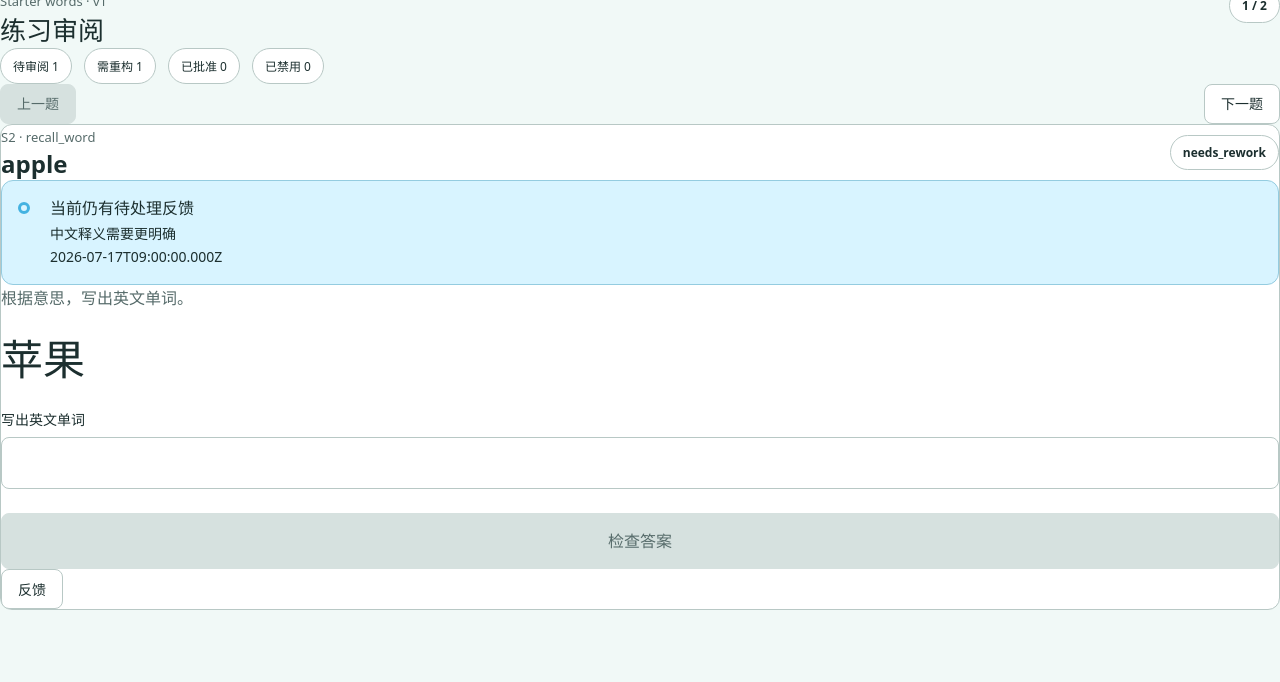
ExerciseReviewPage › directly corrects through the review decision and requires a fresh simulation
The image size is (1280, 682).
Check: the message "当前仍有待处理反馈 中文释义需要更明确 2026-07-17T09:00:00.000Z" is shown, box [1,180,1279,285]
Click the button "反馈" at (32, 589), box [1,569,63,609]
(page scrolled)
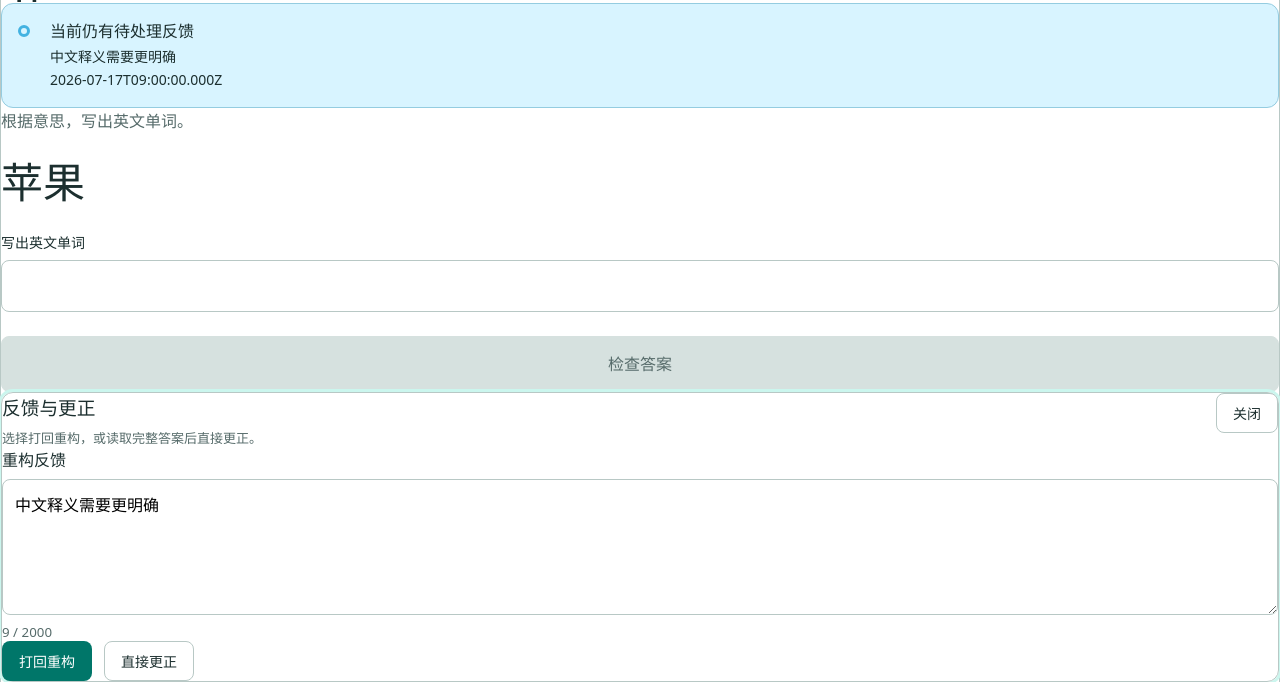
Click the button "直接更正" at (149, 661), box [104,641,194,681]
(page scrolled)
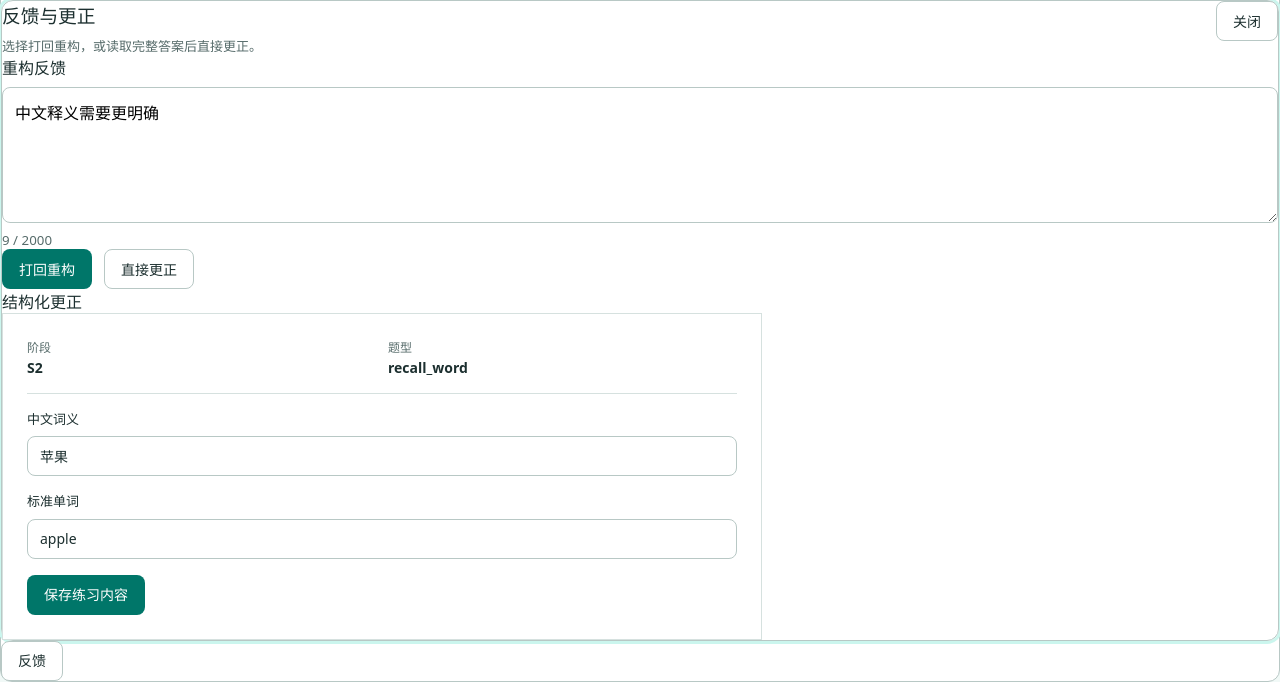
Replace the text in the field named "meaning" with "苹果（水果）" at (382, 456), box [27,436,737,476]
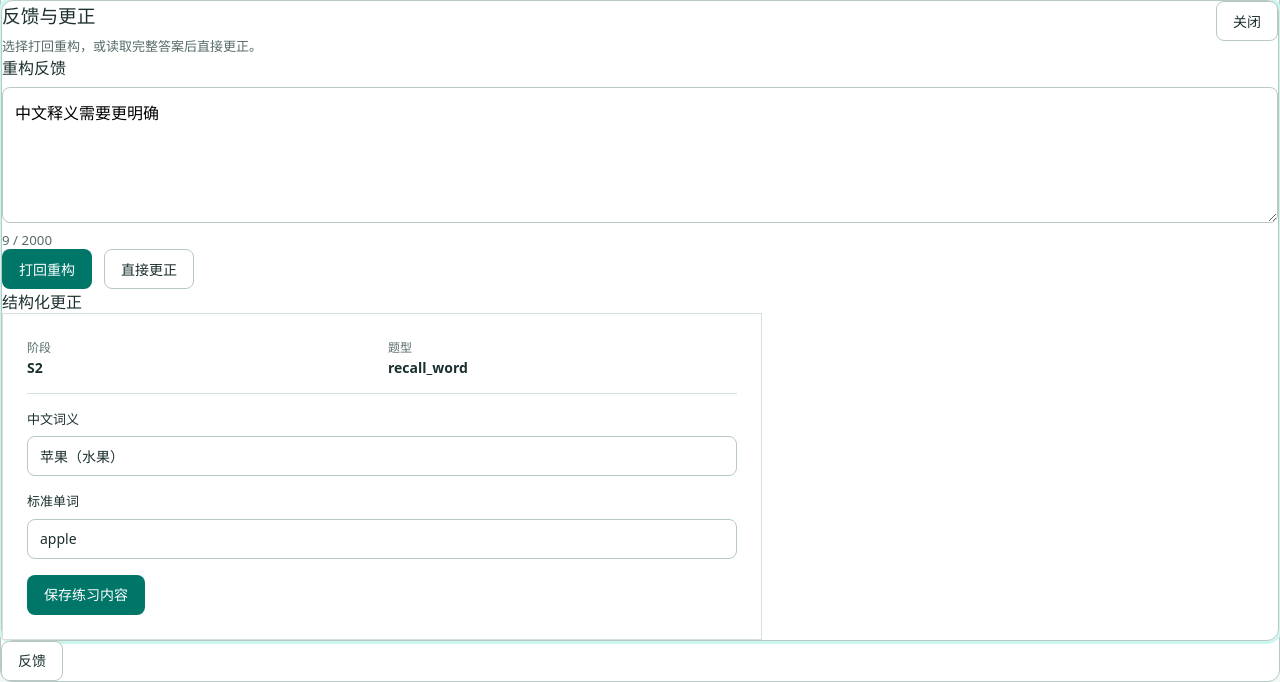
Submit the form "阶段 S2 题型 recall_word 中文词义 标准单词 保存练习内容", box [2,313,762,640]
(page scrolled)
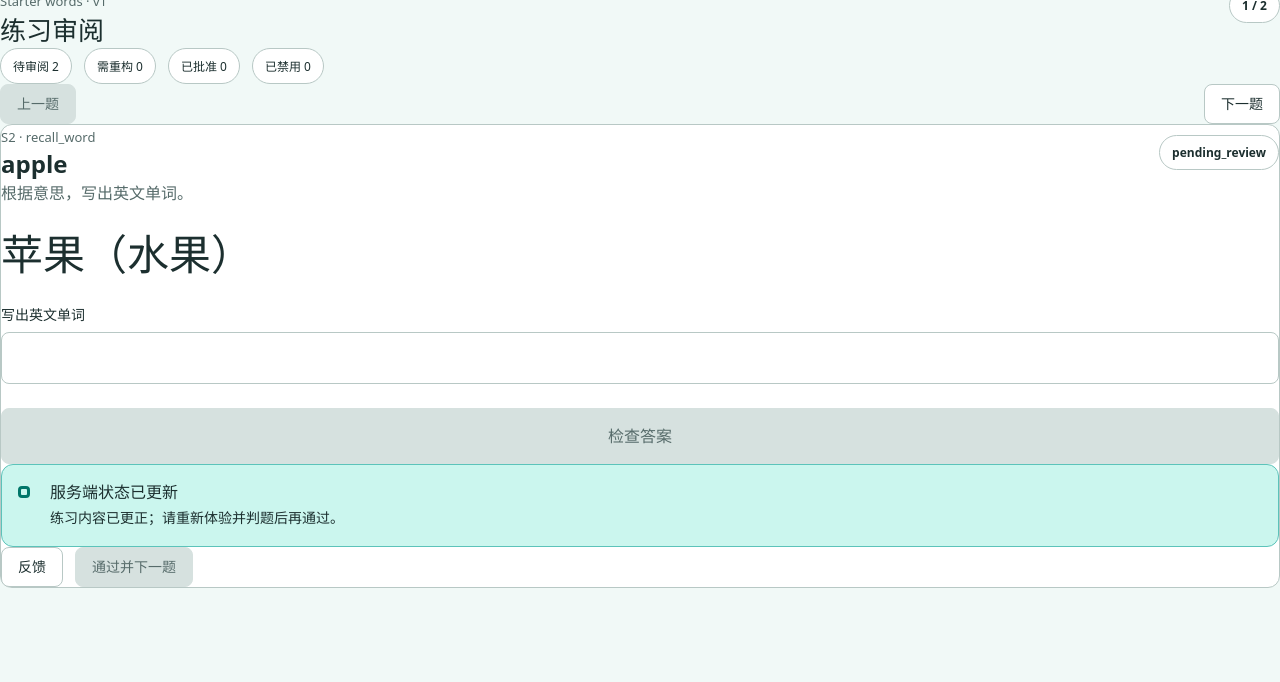
Check: the element that starts with "返回版本详情" shows "苹果（水果）", box [1,225,253,282]
Check: the button "通过并下一题" is disabled, box [75,547,193,587]
